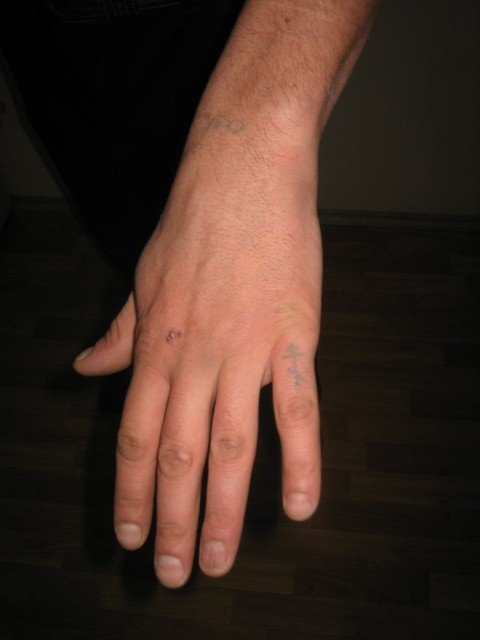tatu9_krest: (280, 340, 314, 390)
